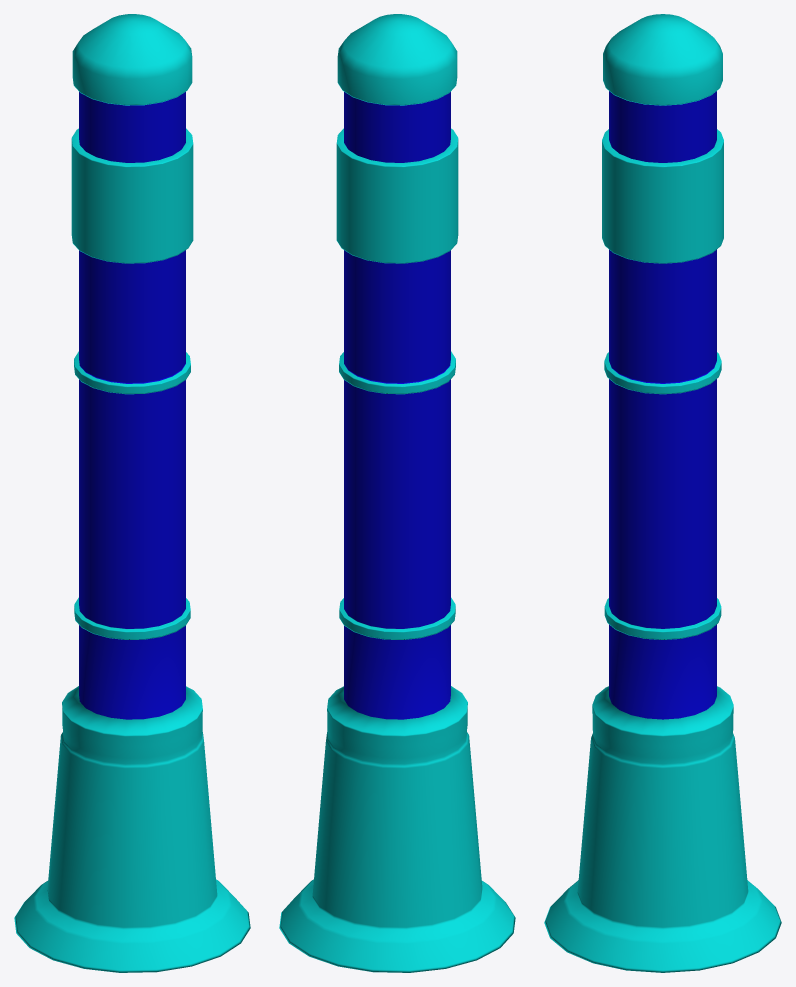
File: SM_ENV_FencePole_v04.fbx
The picture shows the model from 3 angles, left to right: view 1: azimuth 30°, elevation 25°; view 2: azimuth 150°, elevation 25°; view 3: azimuth 270°, elevation 25°; orthographic projection.
Visible parts, largest first — view 1: SM_ENV_FencePole_v01; view 2: SM_ENV_FencePole_v01; view 3: SM_ENV_FencePole_v01.
Part boxes in pixels (box(x1,y1,x2,y2)): SM_ENV_FencePole_v01: box(14, 14, 250, 972); SM_ENV_FencePole_v01: box(279, 14, 515, 972); SM_ENV_FencePole_v01: box(544, 14, 781, 972).
Bounding box in the file's own units: 0.7001 × 2.93 × 0.7001.
